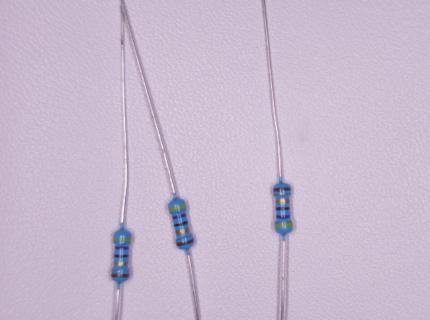Gold band: (175, 227, 190, 235), (275, 199, 290, 204), (114, 262, 128, 266)
Violet band: (172, 213, 186, 219), (276, 215, 291, 218), (115, 246, 129, 249)
Yellow band: (168, 204, 186, 211), (275, 223, 293, 227), (113, 237, 131, 241)
